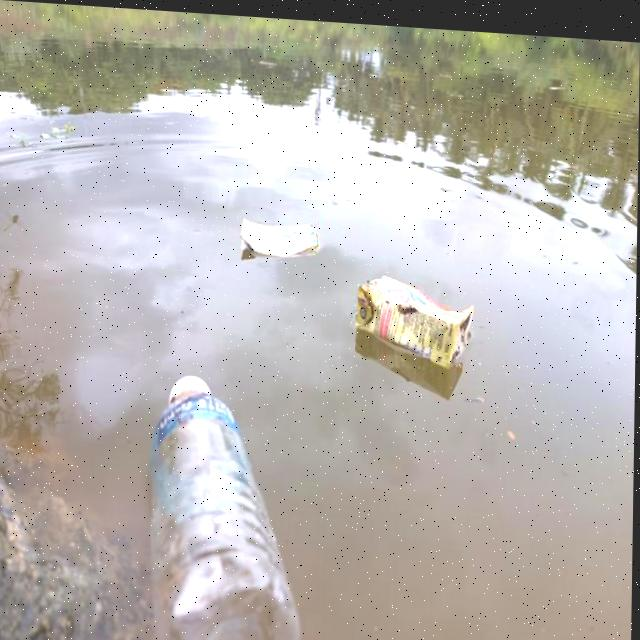paper: (346, 257, 490, 358), (225, 200, 339, 260)
waterbottle: (131, 345, 302, 640)
